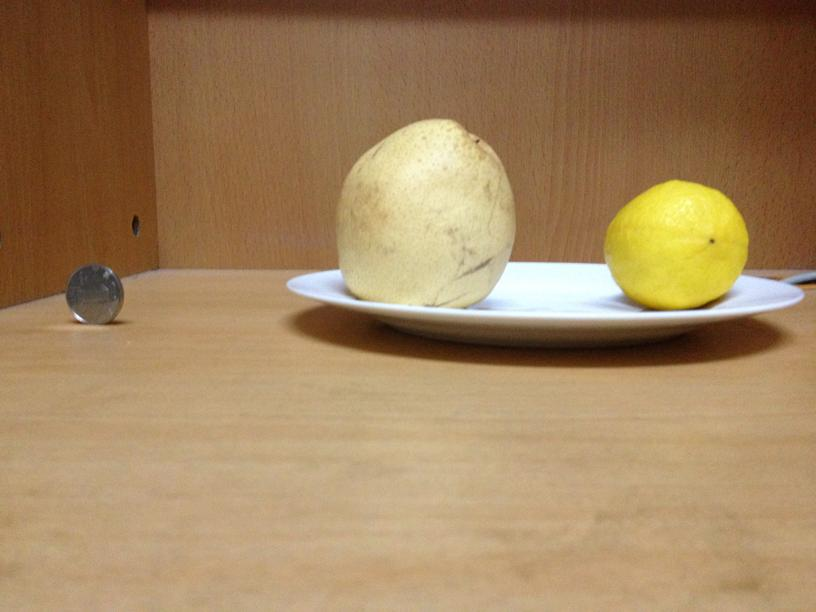coin: (66, 265, 123, 325)
lemon: (603, 176, 746, 305)
pear: (333, 117, 516, 308)
